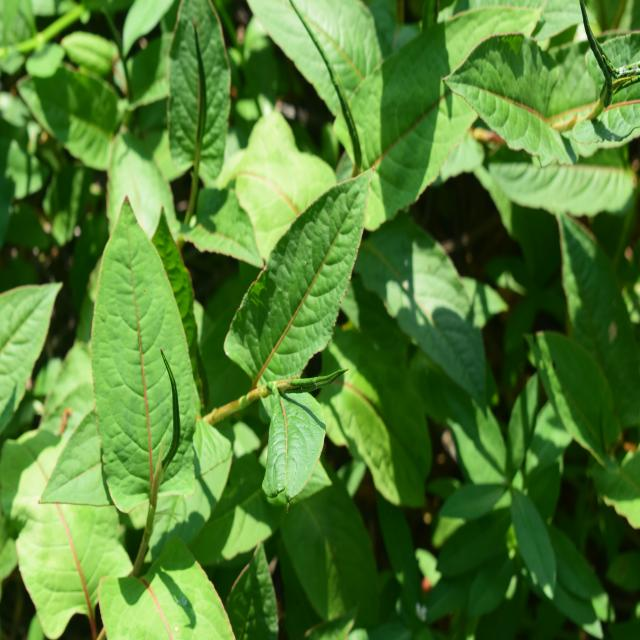Chinese_knotweed: (87, 171, 359, 525)
